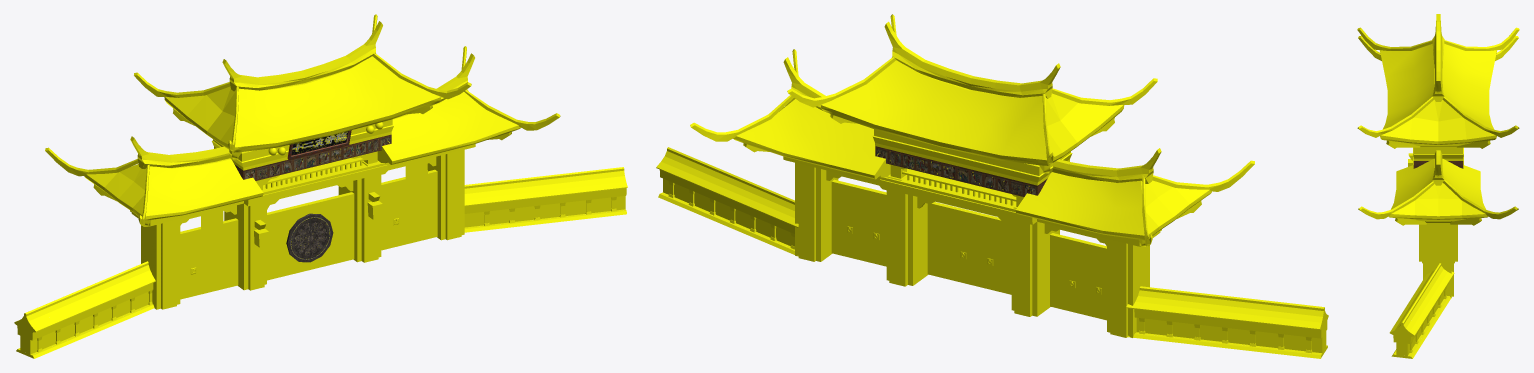
The model's file is 1st_gate_001.glb.
3 renders of one model, left to right at view 1: azimuth 30°, elevation 25°; view 2: azimuth 150°, elevation 25°; view 3: azimuth 270°, elevation 25°, orthographic. The views are drawn at different scales.
Visible parts, largest first — view 1: Temple_Gate_001; view 2: Temple_Gate_001; view 3: Temple_Gate_001.
Part boxes in pixels (box(x1,y1,x2,y2)): Temple_Gate_001: box(14, 14, 627, 358); Temple_Gate_001: box(656, 14, 1328, 358); Temple_Gate_001: box(1357, 14, 1519, 358).
Size of the model in its own units: 37.31 by 13.29 by 10.33.
Materials: 9 (9 with a texture image).
